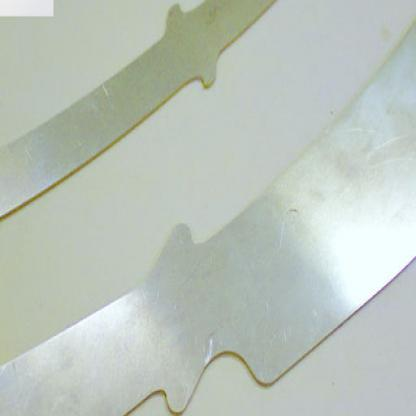knife: (0, 0, 415, 415), (0, 0, 389, 250)
